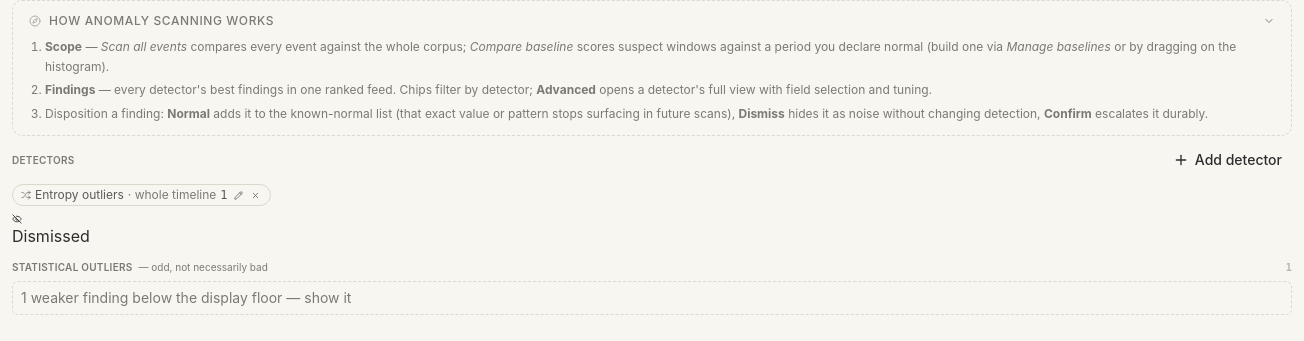
Test: InvestigateRail › keeps a barely-out-of-band finding out of the ranked feed, and says so
Expected: the text "2212222122" is not shown
Click the button with test id "weak-summary". click: (78, 298)
box: [12,281,1292,315]
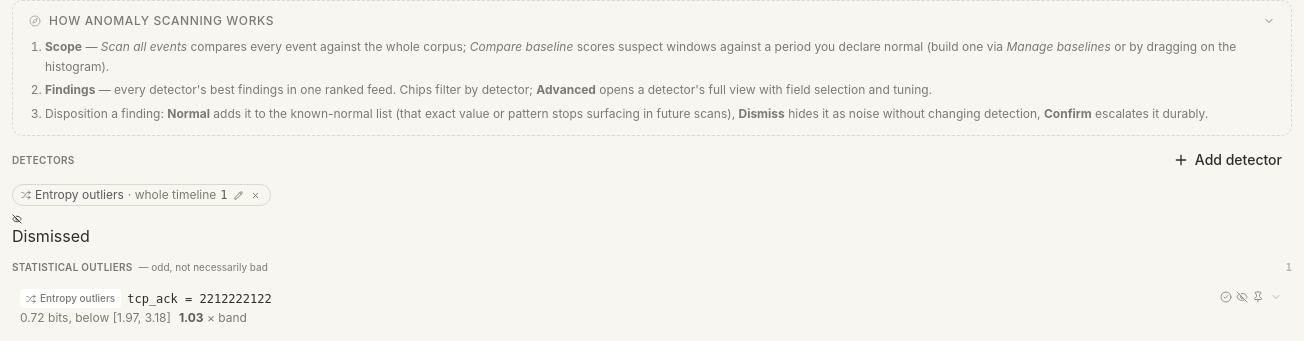
Expected: the text "tcp_ack = 2212222122" is shown, [127,290,272,306]
